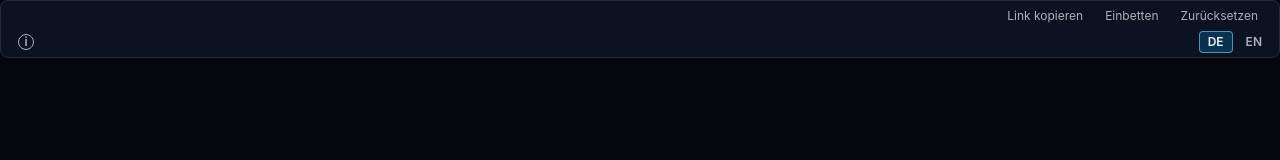
it: Kopfzeile: Einbetten › kopiert beim Klick den iframe-Code in die Zwischenablage und meldet „Einbettcode kopiert"
Click the button "Einbetten" at (1132, 16), box [1096, 5, 1168, 27]
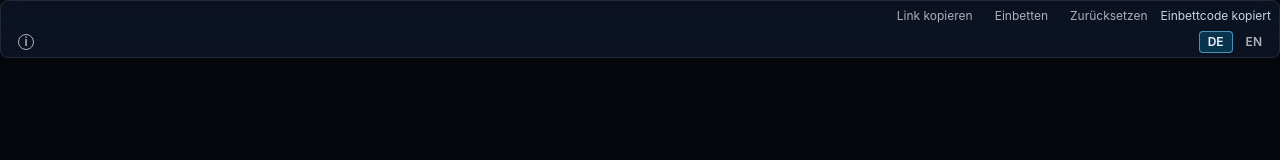
Expected: the message reads "Einbettcode kopiert", [1160, 8, 1271, 23]
